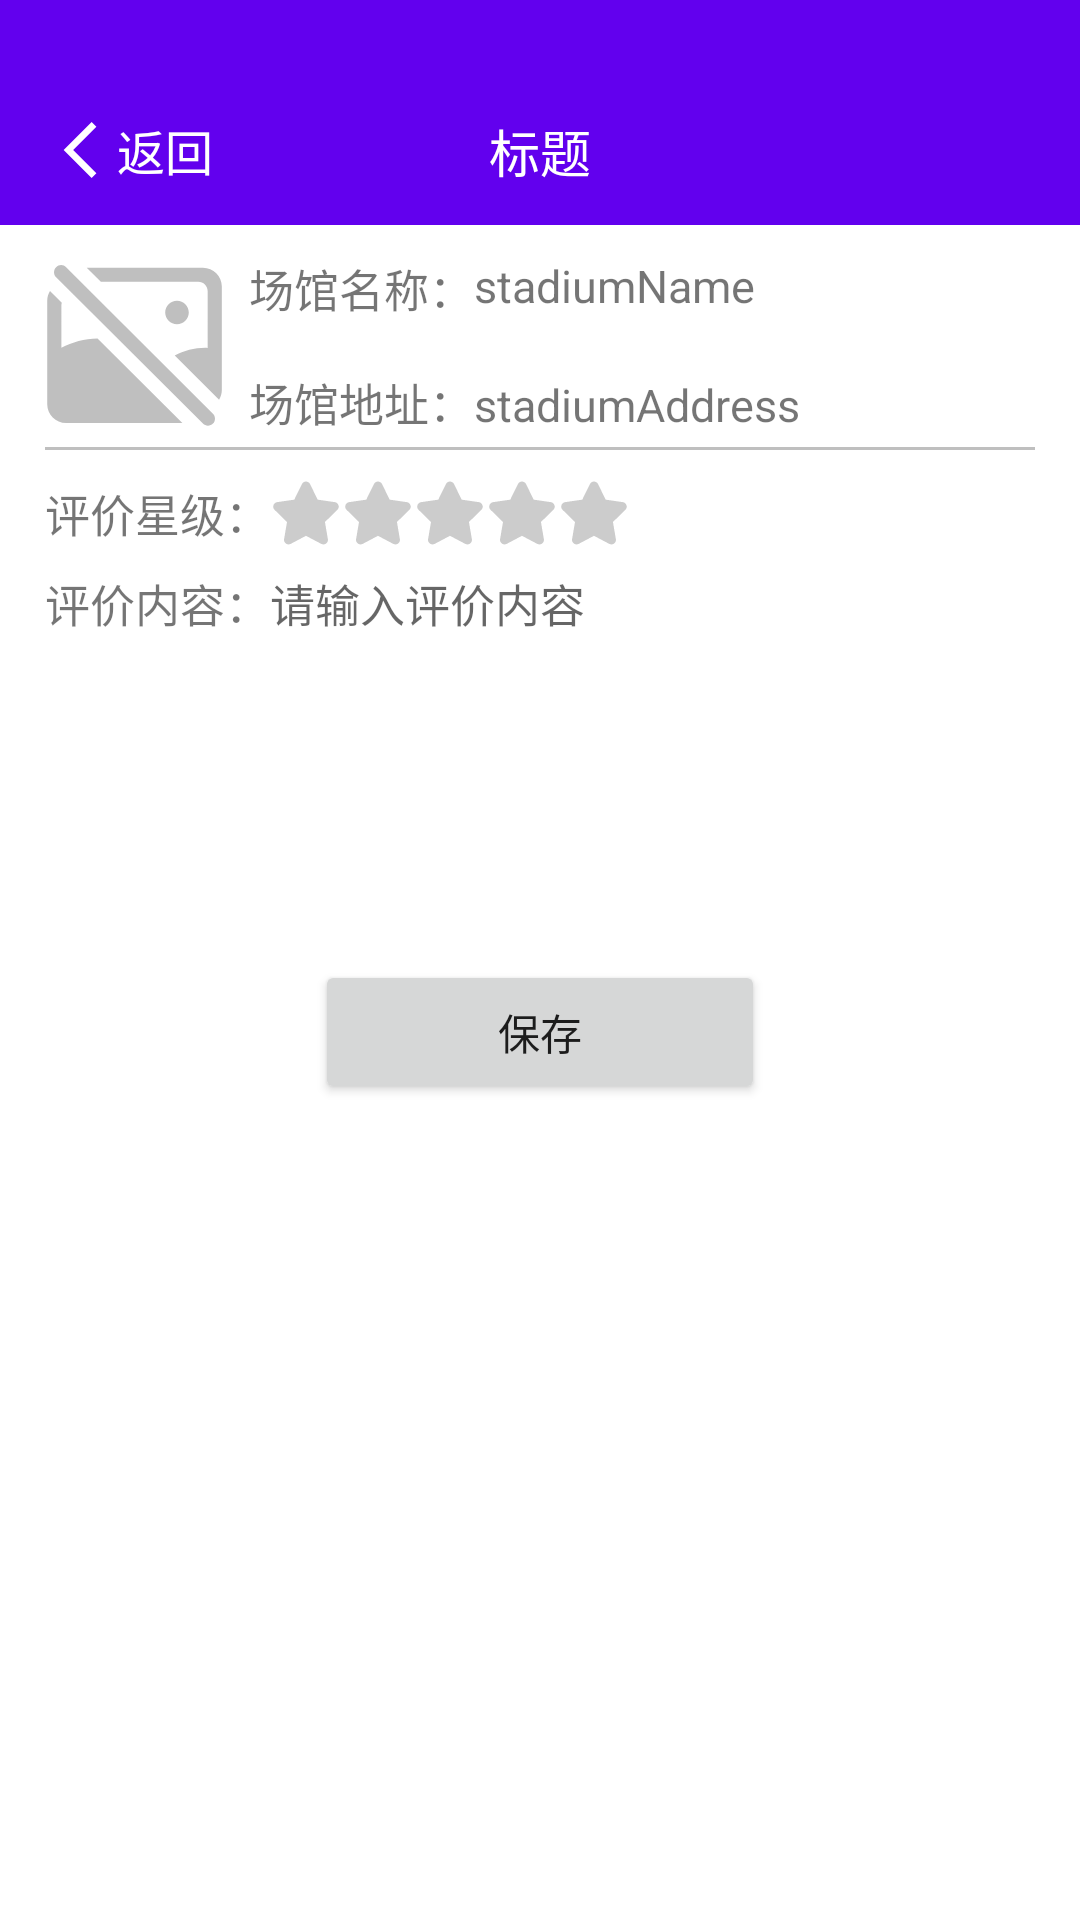

Screen size 1080 x 1920. Icon name, then its center in pixels as (x=x, y=y):
star empty: (x=306, y=513), (x=378, y=513), (x=450, y=513), (x=522, y=513), (x=594, y=513)
